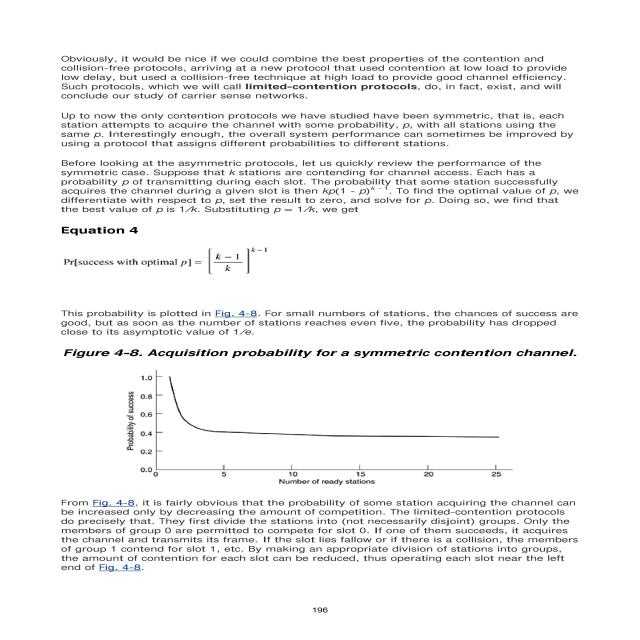diagram: (18, 344, 607, 493)
